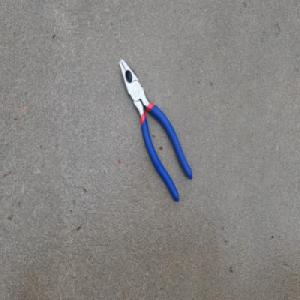Pliers: (118, 57, 192, 202)
